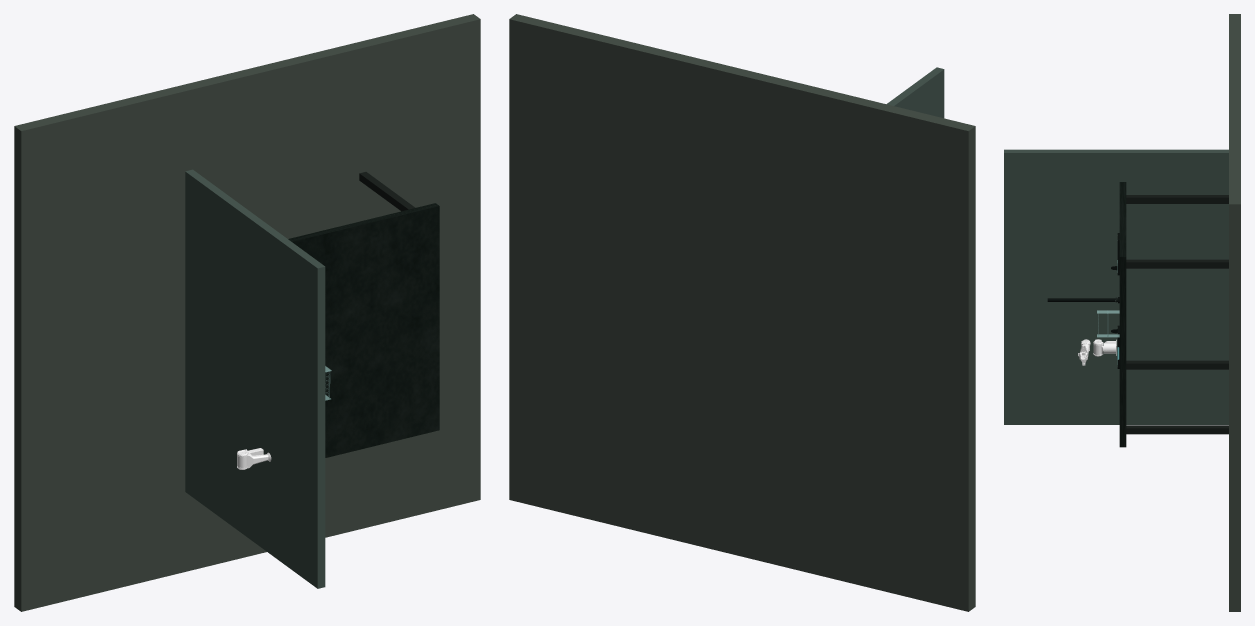
File: initial_scene.glb
3 views of the same model, side by side, from view 1: azimuth 30°, elevation 25°; view 2: azimuth 150°, elevation 25°; view 3: azimuth 270°, elevation 25° (orthographic). The views are drawn at different scales.
Parts seen in each view (by area): view 1: floor, rear_wall, tabletop, table_support_frame; view 2: floor, rear_wall; view 3: rear_wall, floor, table_support_frame, tabletop, link8STL.
Boxes of the visible parts, x1,y1,x2,y2 form: floor: [14, 14, 480, 611]; rear_wall: [185, 169, 325, 588]; tabletop: [288, 203, 439, 457]; table_support_frame: [359, 172, 415, 211]; floor: [509, 14, 975, 611]; rear_wall: [886, 67, 944, 118]; rear_wall: [1004, 149, 1228, 424]; floor: [1229, 14, 1240, 611]; table_support_frame: [1126, 195, 1228, 434]; tabletop: [1119, 182, 1126, 447]; link8STL: [1078, 339, 1116, 365].
Bounding box in the file's own units: 3 × 3 × 1.58.
38 materials, 1 textured.
